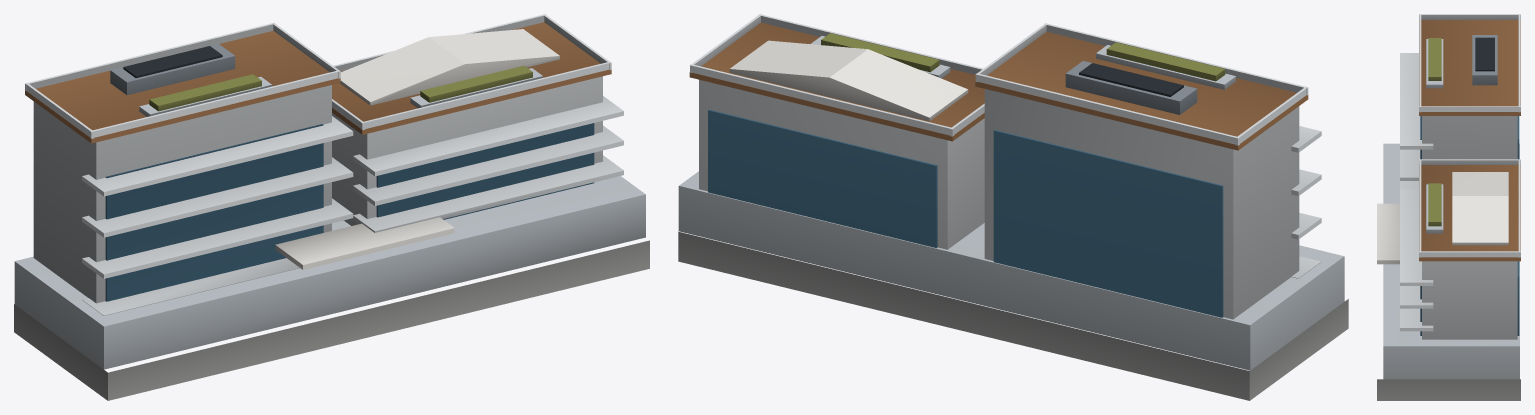
Rendered from residential-trackside-2.glb.
3 renders of one model, left to right at view 1: azimuth 30°, elevation 25°; view 2: azimuth 150°, elevation 25°; view 3: azimuth 270°, elevation 25°, orthographic. The views are drawn at different scales.
Visible parts, largest first — view 1: residential-trackside-2; view 2: residential-trackside-2; view 3: residential-trackside-2.
Boxes of the visible parts, <box> form: residential-trackside-2: <box>14,14,649,400</box>; residential-trackside-2: <box>678,14,1348,400</box>; residential-trackside-2: <box>1377,14,1520,400</box>.
Bounding box in the file's own units: 60 × 27 × 18.
